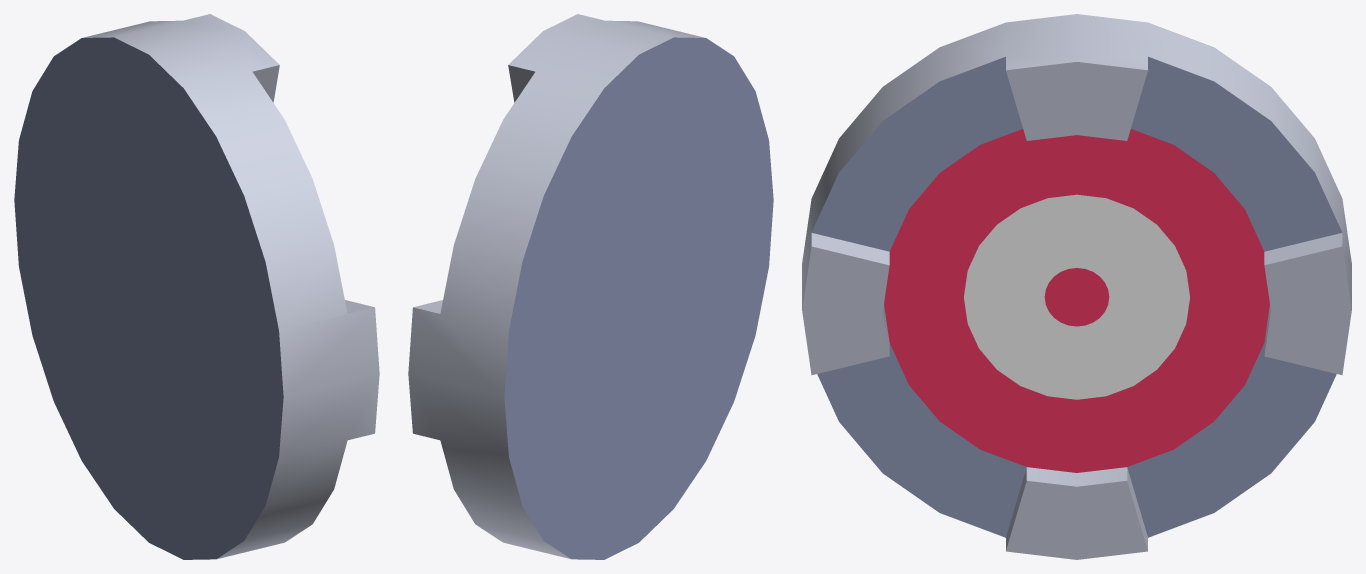
Rendered from targetB.glb.
3 renders of one model, left to right at view 1: azimuth 30°, elevation 25°; view 2: azimuth 150°, elevation 25°; view 3: azimuth 270°, elevation 25°, orthographic. The views are drawn at different scales.
Parts seen in each view (by area): view 1: targetB; view 2: targetB; view 3: targetB.
Part boxes in pixels (left/top/right/bottom): targetB: left=14, top=14, right=379, bottom=559; targetB: left=408, top=14, right=773, bottom=559; targetB: left=802, top=14, right=1351, bottom=559.
Size of the model in its own units: 0.07 by 0.34 by 0.34.
